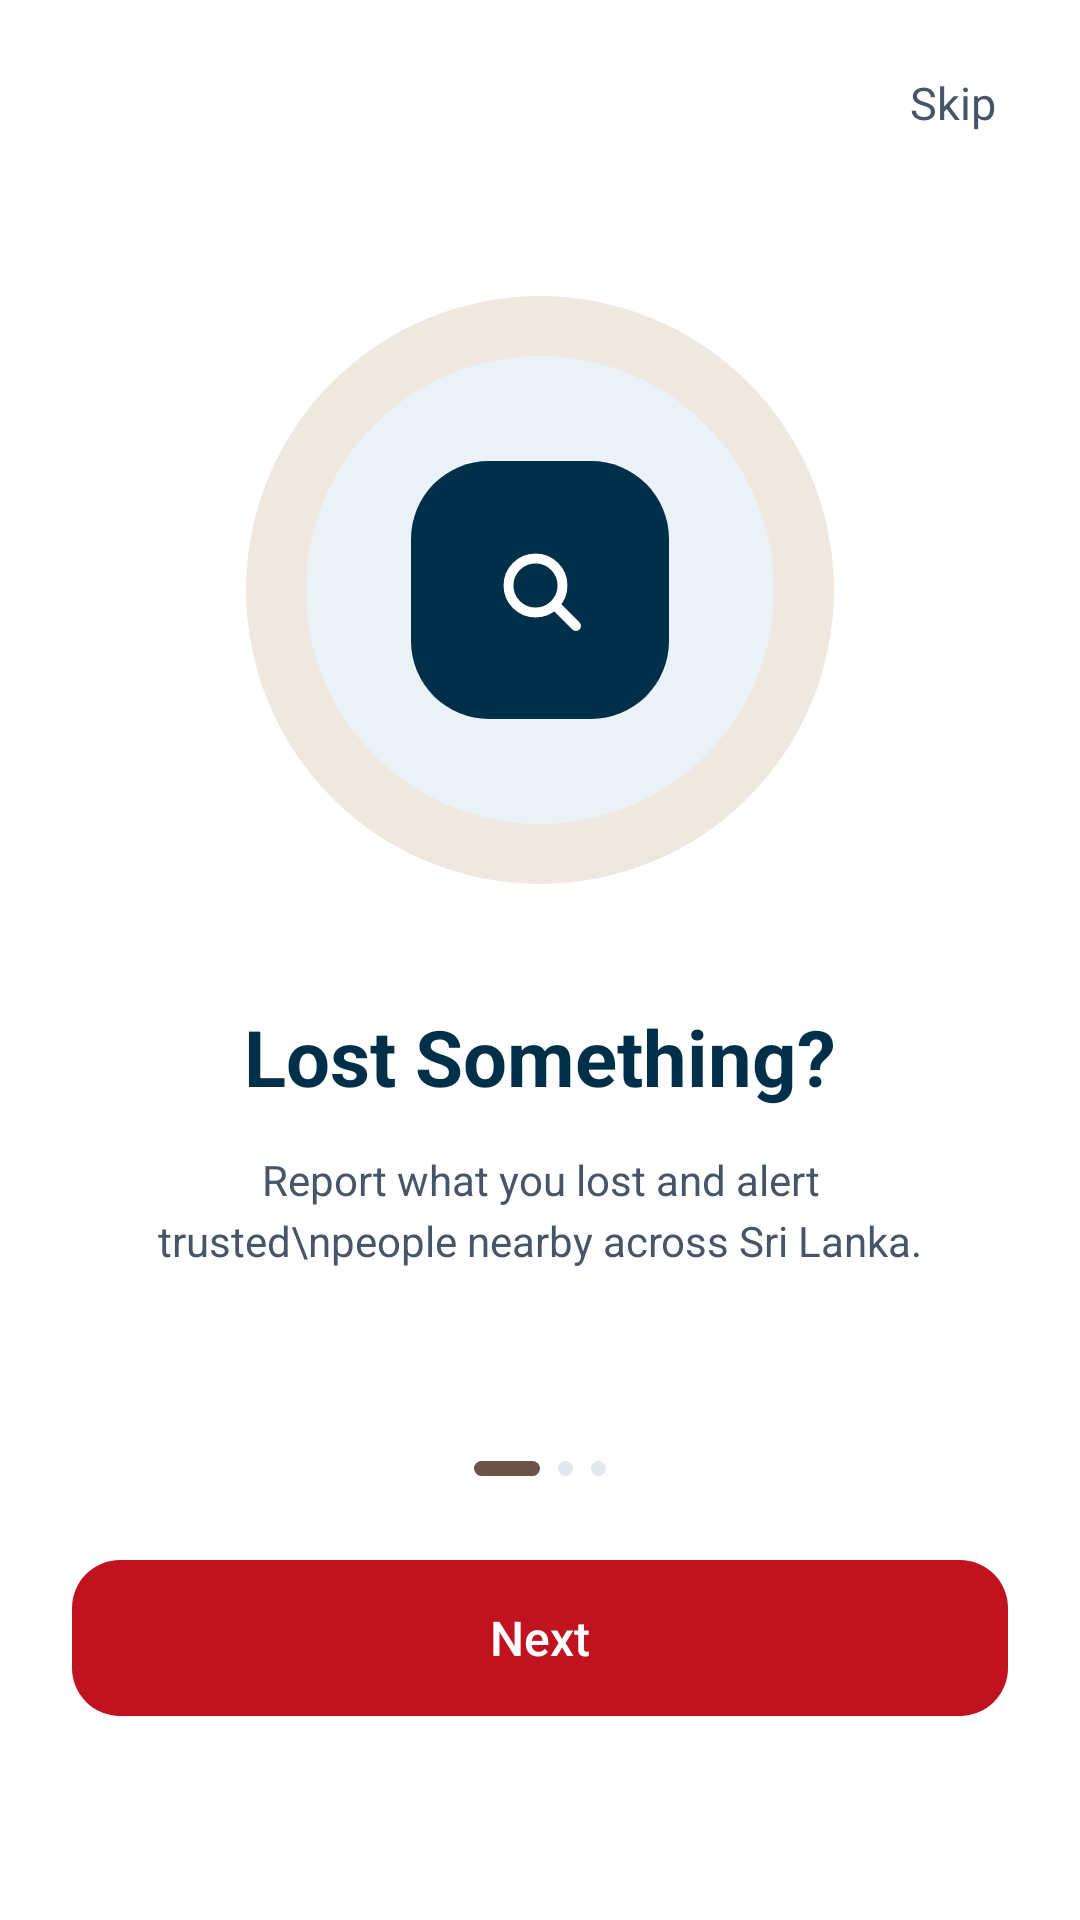

Named icons in this screenshot (1080*1920) and their bounding boxes, (x1, y1, x2, y2):
Search Icon: (503, 553, 581, 631)
